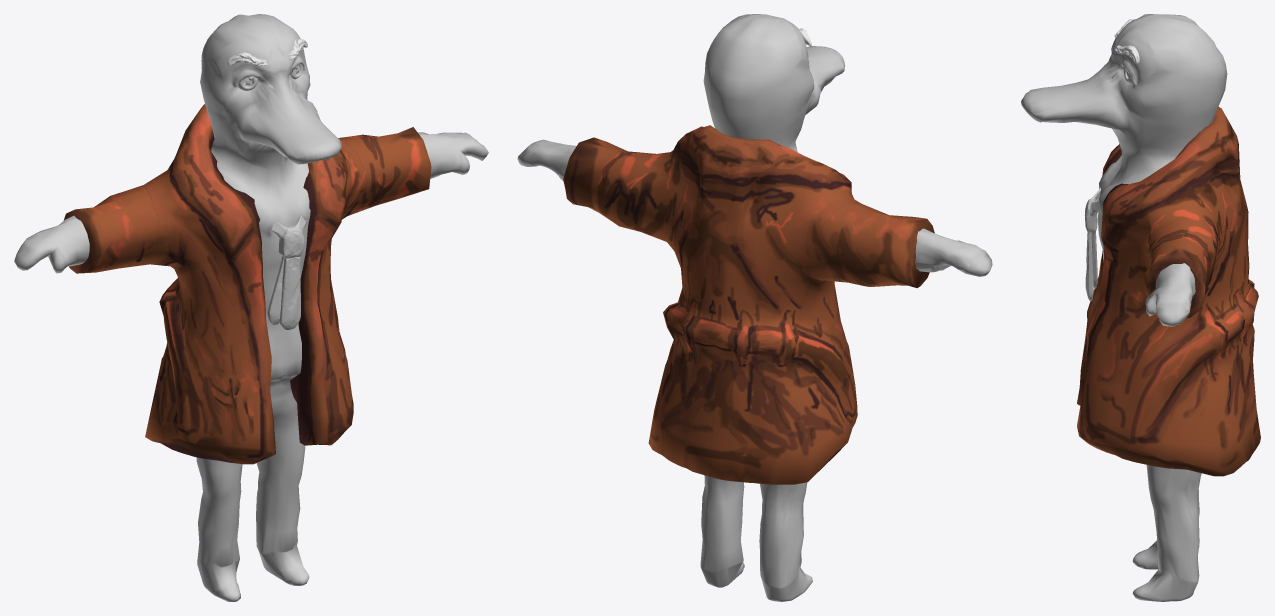
Rendered from Detective Duckington_Unity_Cleaned.fbx.
3 renders of one model, left to right at view 1: azimuth 30°, elevation 25°; view 2: azimuth 150°, elevation 25°; view 3: azimuth 270°, elevation 25°, orthographic.
Visible parts, largest first — view 1: Coat_Retopo, RetopoMainBody3, Low Poly TIE; view 2: Coat_Retopo, RetopoMainBody3; view 3: Coat_Retopo, RetopoMainBody3, Low Poly TIE.
Part boxes in pixels (<box>): Coat_Retopo: <box>63,104,431,464</box>; RetopoMainBody3: <box>14,14,488,601</box>; Low Poly TIE: <box>267,215,306,329</box>; Coat_Retopo: <box>563,125,934,484</box>; RetopoMainBody3: <box>517,14,992,601</box>; Coat_Retopo: <box>1077,106,1260,476</box>; RetopoMainBody3: <box>1021,14,1227,601</box>; Low Poly TIE: <box>1084,188,1100,301</box>.
Bounding box in the file's own units: 1006 × 1160 × 447.
